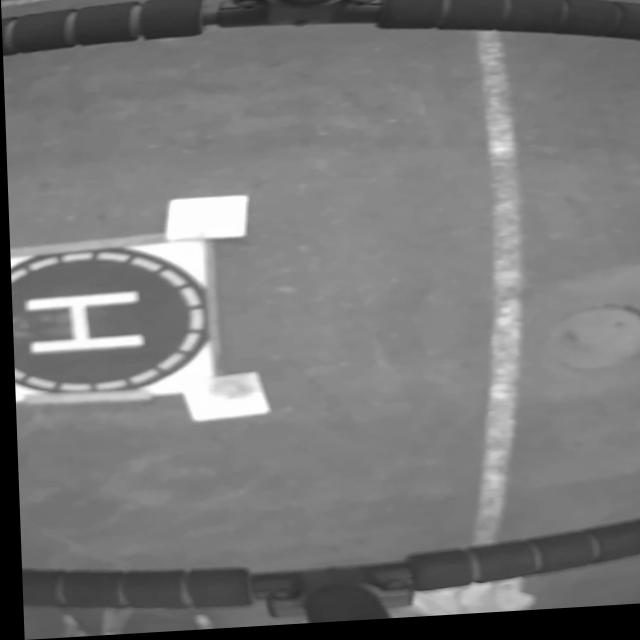Helipad: (20, 292, 141, 355)
